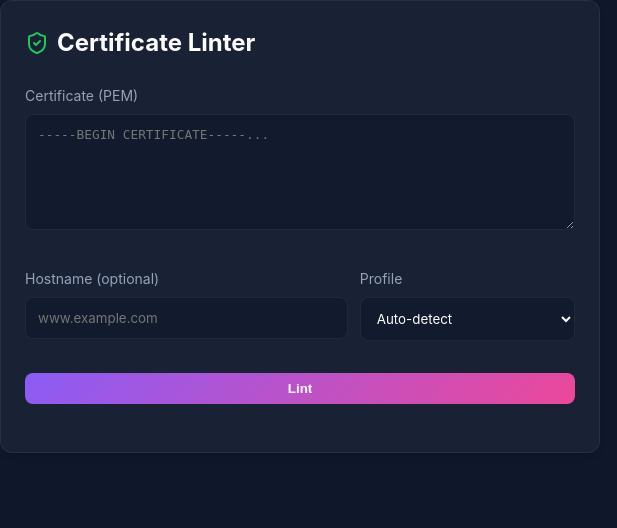
Test case: CertLinter › shows a parse error for invalid input
Type "not a certificate" into the text box labelled "Certificate (PEM)".
click(300, 172); type("not a certificate")  # box [25,114,575,230]
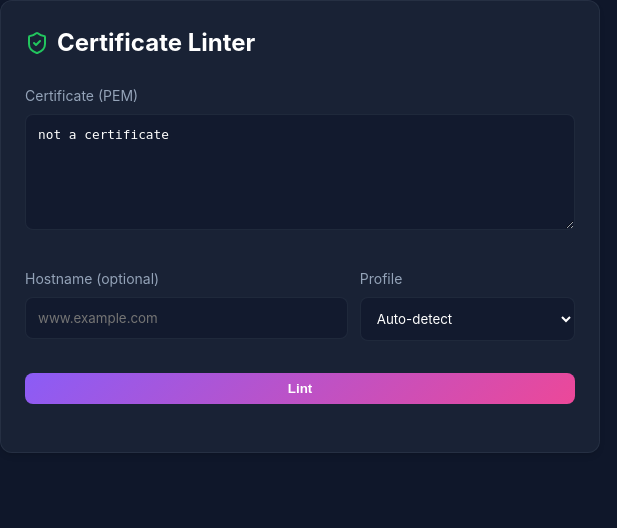
Click the button "Lint".
click(300, 388)  # box [25,373,575,404]
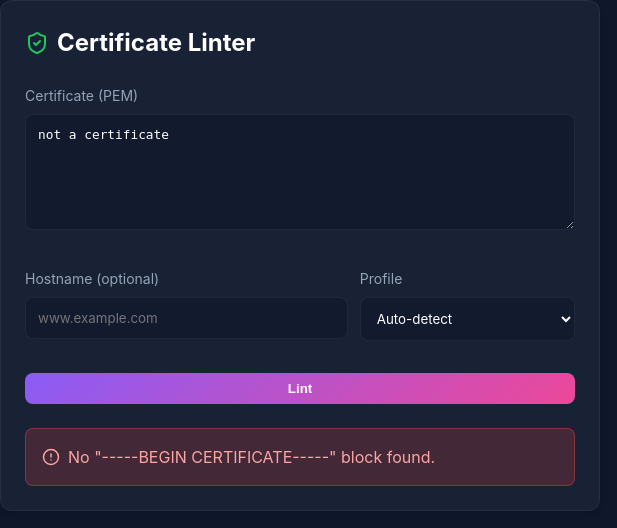
Now the message shows "BEGIN CERTIFICATE", box [68,447,435,467]
